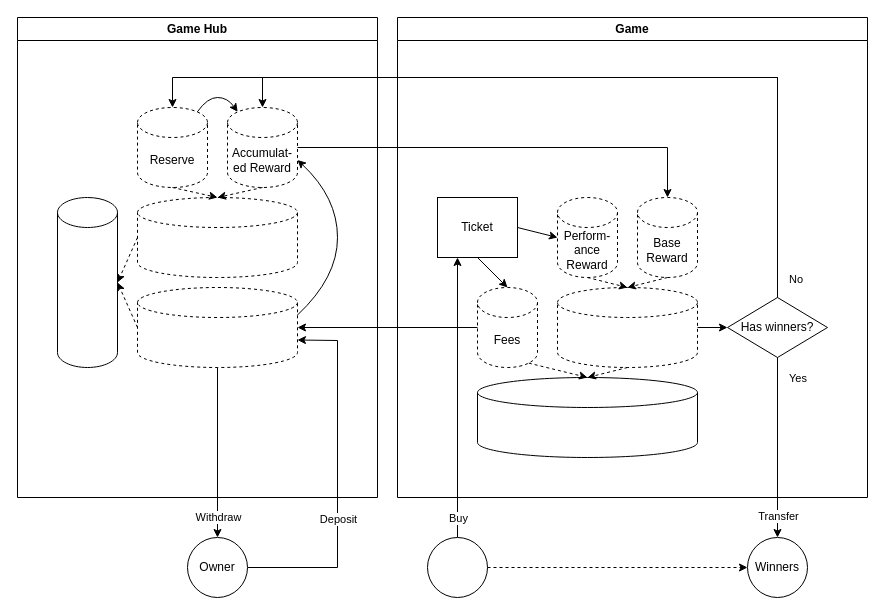
Image size: 885x615. Some labels were removed from this diagram. The shapes that lost their labels are listed below. From the top down, each one's centre as x and y in pixels, then its label:
the point at 217,237: Working capital
the point at 87,282: Central Funds
the point at 217,327: Profits
the point at 627,327: Reward
the point at 587,417: Local Funds
the point at 457,567: Players
